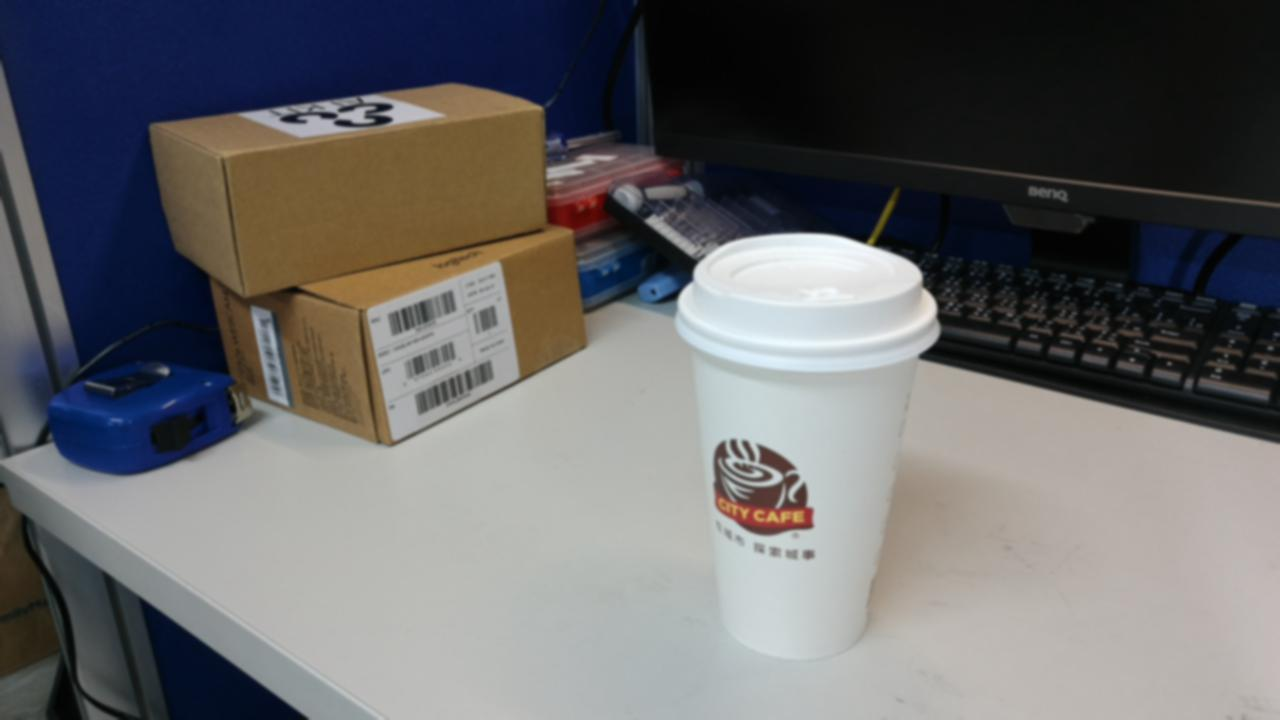long: (557, 473, 638, 662)
